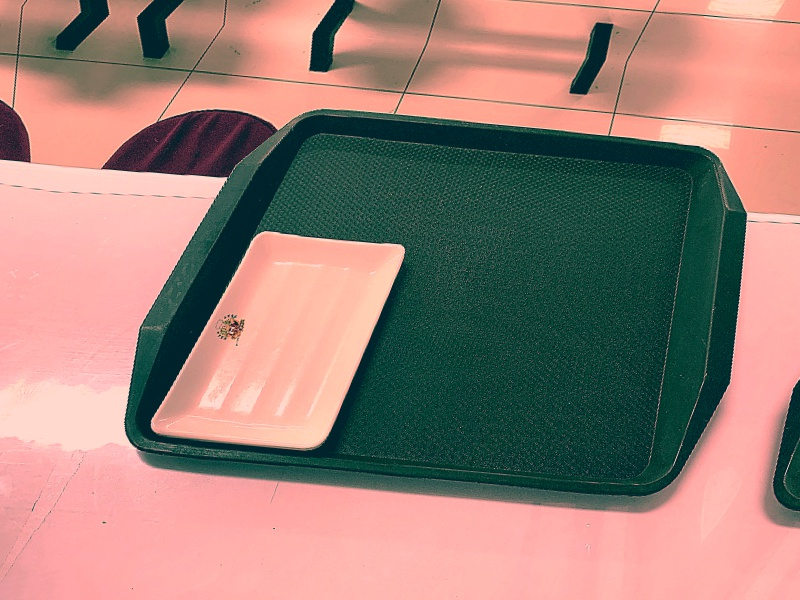dish4: (141, 224, 415, 458)
